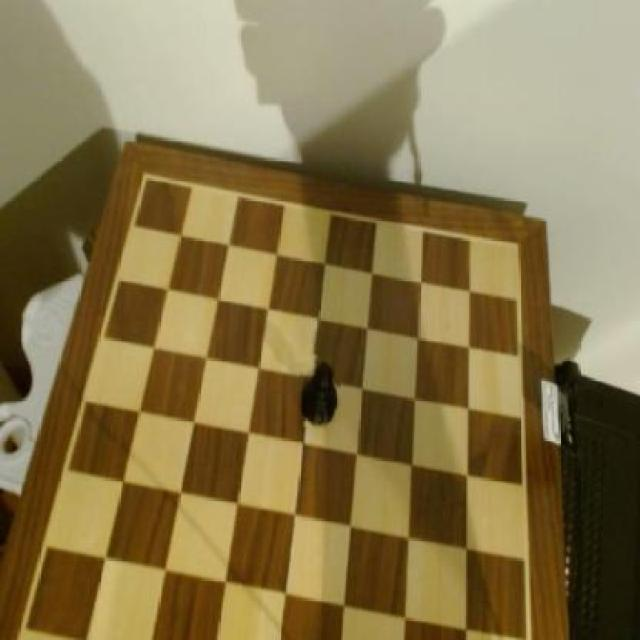black-knight: (297, 354, 340, 430)
